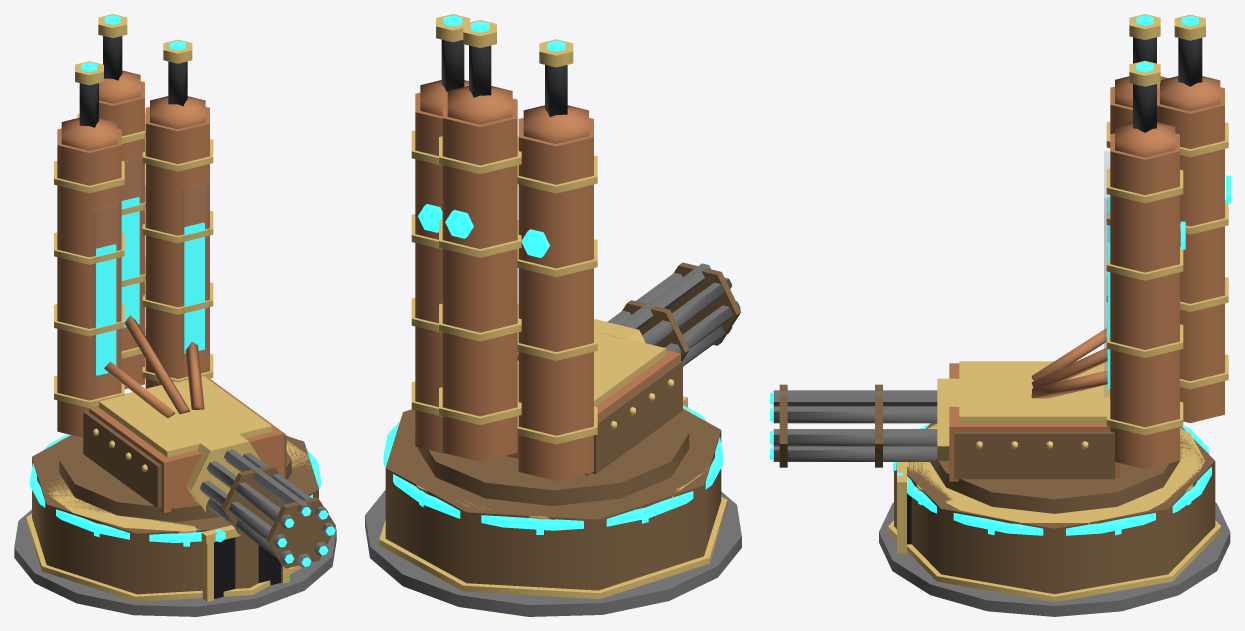
Rendered from Machinegoon_T3_Pepperbox.glb.
3 views of the same model, side by side, from view 1: azimuth 30°, elevation 25°; view 2: azimuth 150°, elevation 25°; view 3: azimuth 270°, elevation 25° (orthographic). The views are drawn at different scales.
Visible parts, largest first — view 1: Machinegoon_T3_Pepperbox_Turret, Machinegoon_T3_Pepperbox_Base; view 2: Machinegoon_T3_Pepperbox_Turret, Machinegoon_T3_Pepperbox_Base; view 3: Machinegoon_T3_Pepperbox_Turret, Machinegoon_T3_Pepperbox_Base.
Boxes of the visible parts, left/top/right/bottom form: Machinegoon_T3_Pepperbox_Turret: left=54, top=14, right=335, bottom=568; Machinegoon_T3_Pepperbox_Base: left=14, top=434, right=336, bottom=616; Machinegoon_T3_Pepperbox_Turret: left=411, top=14, right=740, bottom=505; Machinegoon_T3_Pepperbox_Base: left=365, top=396, right=741, bottom=616; Machinegoon_T3_Pepperbox_Turret: left=770, top=14, right=1230, bottom=513; Machinegoon_T3_Pepperbox_Base: left=879, top=423, right=1230, bottom=616.
Bounding box in the file's own units: 3.5 × 5.74 × 4.59.
